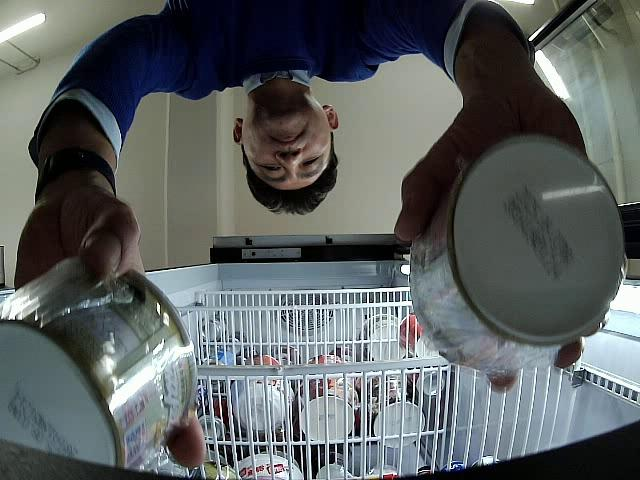00_hand: (396, 91, 584, 393), (14, 183, 207, 466)
04_chapagetti_S: (409, 135, 625, 375), (0, 258, 198, 467)
